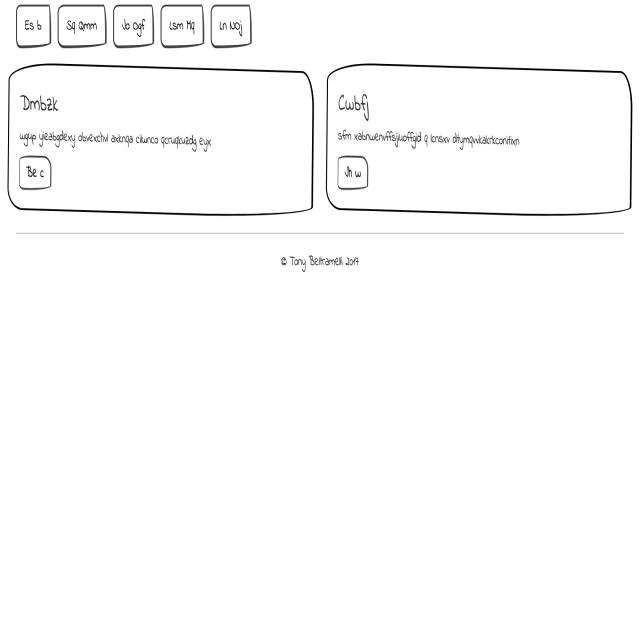Button: (336, 152, 371, 192), (18, 157, 52, 190)
Card: (5, 56, 316, 221), (324, 59, 634, 218)
Footer: (0, 227, 640, 640)
Heading 6: (333, 84, 372, 122), (15, 90, 62, 115)
Navigation Bar: (15, 0, 254, 49)
Paragraph: (13, 128, 216, 155), (336, 127, 527, 148)
